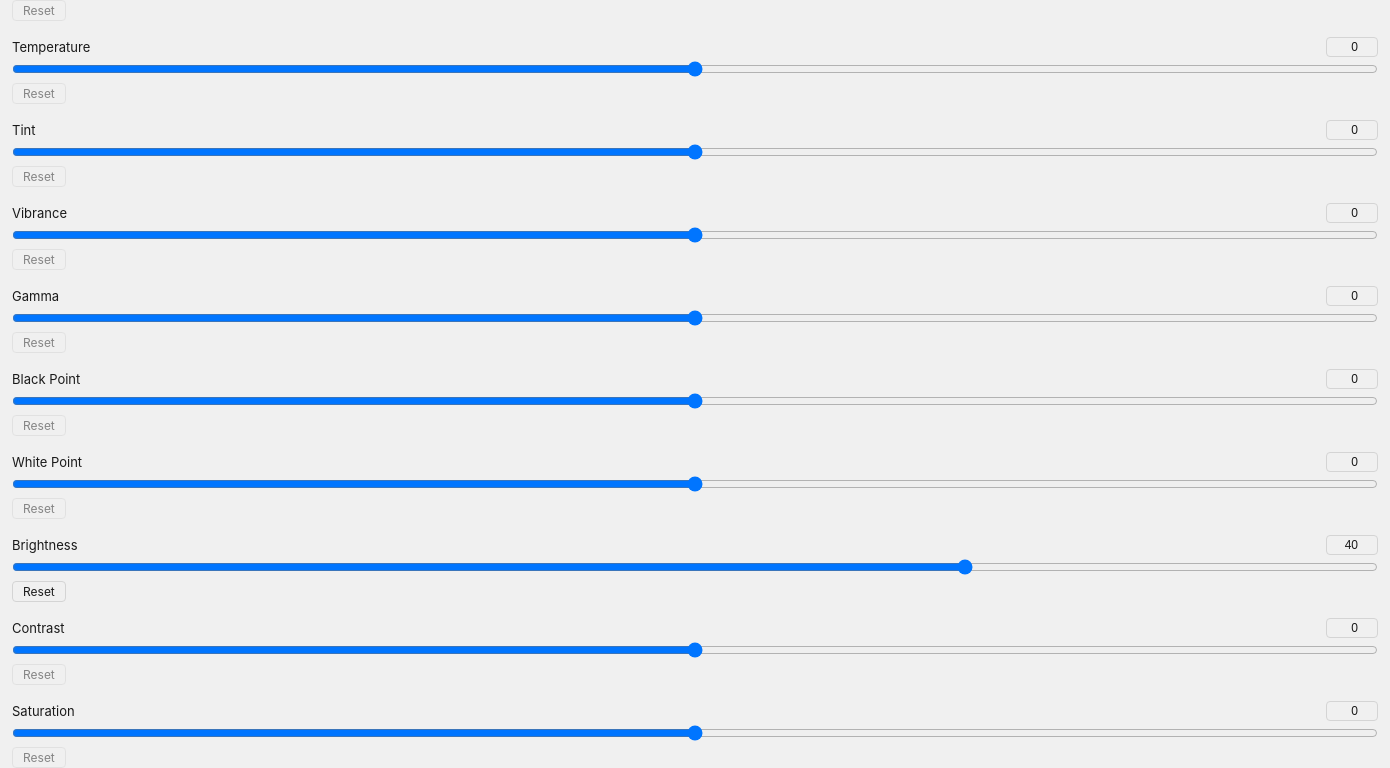
Test: AdjustPanel › the reset button zeroes an already-committed adjustment
(page scrolled)
Click the button with aria-label "Reset Brightness" at x=39, y=592, box [12,581,66,602]
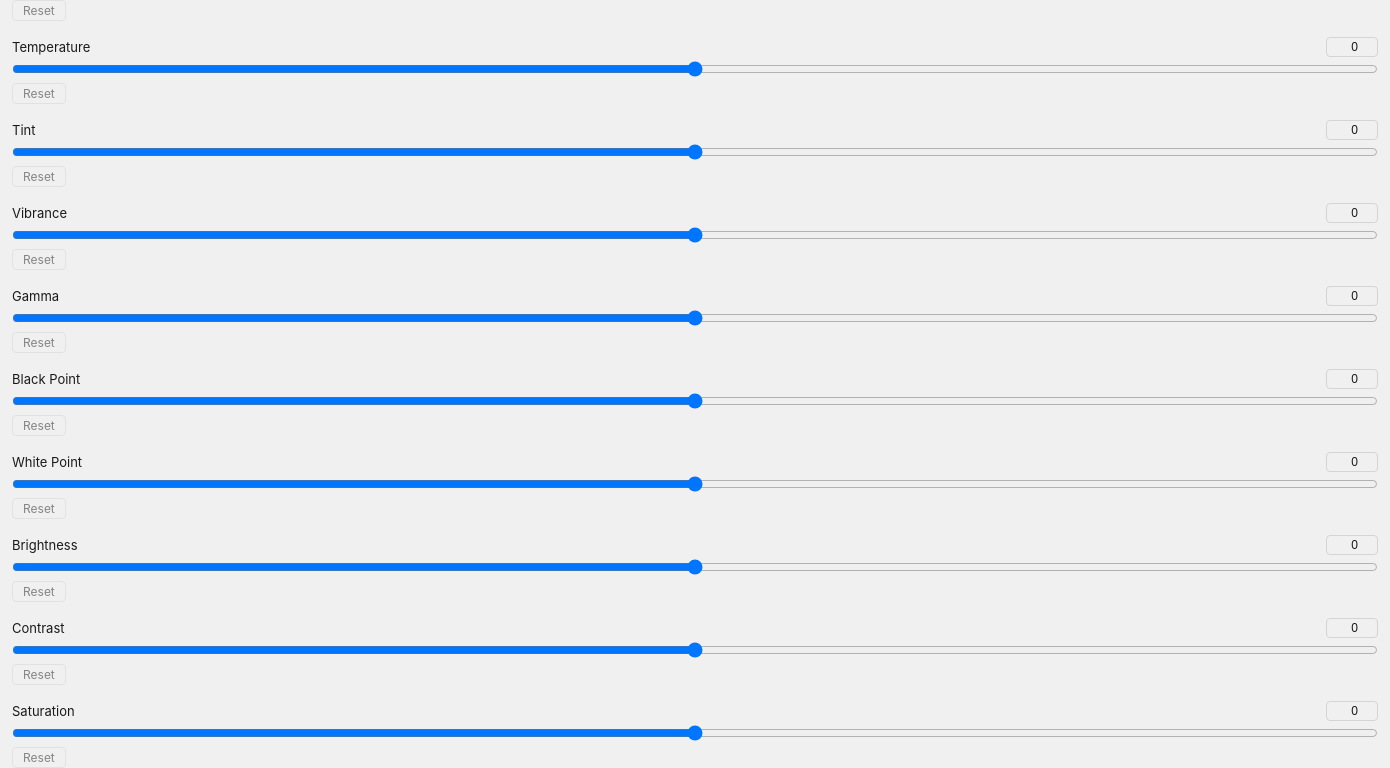
Now the slider labelled "Brightness" holds "0", box [12,559,1378,575]
